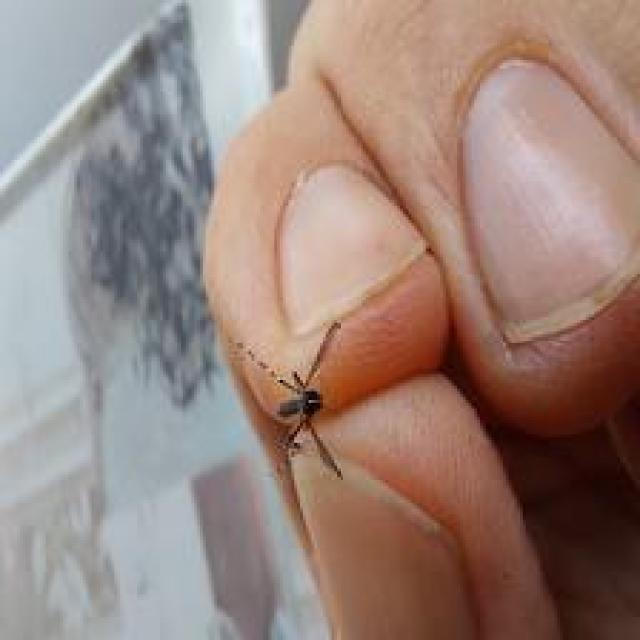Aedes albopictus: (230, 318, 347, 482)
